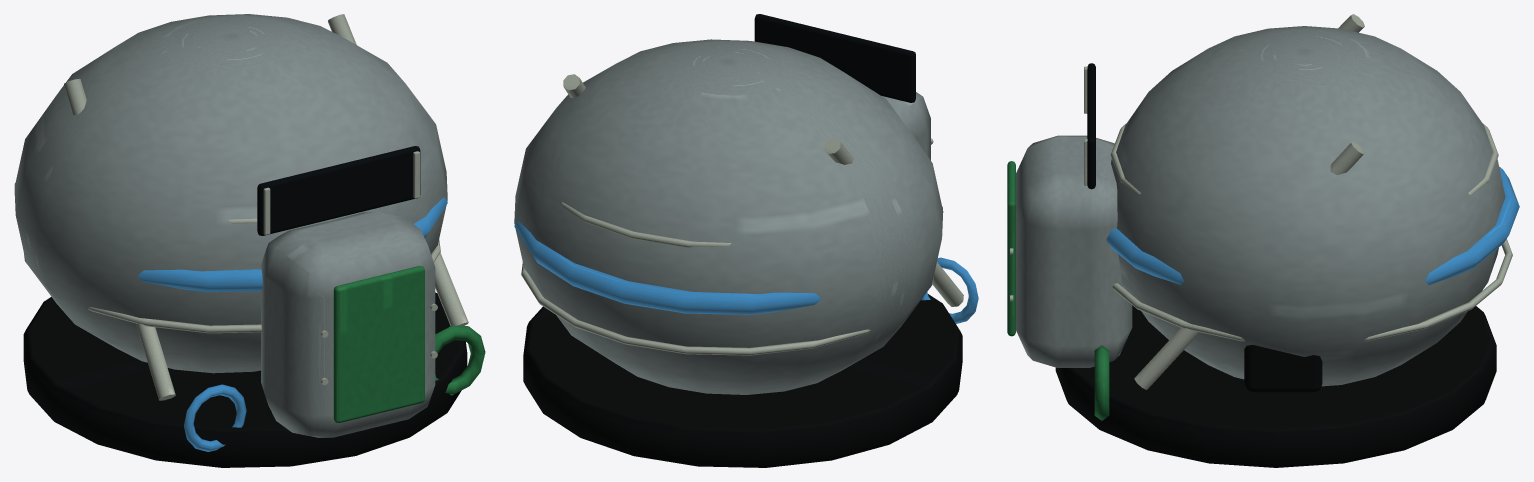
Rendered from haven-shelter-standard.glb.
3 views of the same model, side by side, from view 1: azimuth 30°, elevation 25°; view 2: azimuth 150°, elevation 25°; view 3: azimuth 270°, elevation 25° (orthographic).
Visible parts, largest first — view 1: Haven_Shell, Haven_Foundation, Haven_Airlock, Haven_Door, Haven_Window, Haven_Water_Band, Haven_Canopy_-0.47, Haven_Canopy_0.47, PORT_Life.001, PORT_Signal.001, Haven_Shell_Seam_Low; view 2: Haven_Shell, Haven_Foundation, Haven_Water_Band, Haven_Window, Haven_Shell_Seam_Low, Haven_Airlock, Haven_Canopy_-0.47, Haven_Shell_Seam_High, PORT_Signal.001; view 3: Haven_Shell, Haven_Foundation, Haven_Airlock, Haven_Water_Band, Haven_Life_Service, Haven_Shell_Seam_Low, Haven_Canopy_0.47, Haven_Door, PORT_Life.001, Haven_Window, Haven_Shell_Seam_High.
Part boxes in pixels (x1,y1,x2,y2): Haven_Shell: (14, 14, 447, 373); Haven_Foundation: (23, 292, 467, 467); Haven_Airlock: (261, 212, 435, 437); Haven_Door: (333, 266, 424, 422); Haven_Window: (257, 146, 420, 235); Haven_Water_Band: (14, 183, 447, 292); Haven_Canopy_-0.47: (64, 79, 175, 400); Haven_Canopy_0.47: (328, 14, 468, 325); PORT_Life.001: (435, 325, 485, 395); PORT_Signal.001: (184, 384, 246, 451); Haven_Shell_Seam_Low: (24, 239, 440, 333); Haven_Shell: (514, 39, 943, 394); Haven_Foundation: (523, 294, 962, 467); Haven_Water_Band: (514, 207, 942, 314); Haven_Window: (754, 14, 915, 102); Haven_Shell_Seam_Low: (521, 262, 933, 355); Haven_Airlock: (882, 92, 930, 160); Haven_Canopy_-0.47: (824, 138, 963, 306); Haven_Shell_Seam_High: (562, 202, 731, 247); PORT_Signal.001: (921, 257, 978, 323); Haven_Shell: (1111, 26, 1505, 386); Haven_Foundation: (1055, 305, 1496, 467); Haven_Airlock: (1016, 135, 1132, 367); Haven_Water_Band: (1106, 167, 1519, 284); Haven_Life_Service: (1244, 345, 1322, 392); Haven_Shell_Seam_Low: (1112, 239, 1512, 341); Haven_Canopy_0.47: (1134, 141, 1364, 389); Haven_Door: (1007, 161, 1015, 336); PORT_Life.001: (1094, 345, 1109, 420); Haven_Window: (1087, 63, 1095, 189); Haven_Shell_Seam_High: (1110, 123, 1498, 195).
Bounding box in the file's own units: 1.24 × 1.01 × 1.44.
Materials: 6 (6 with a texture image).
